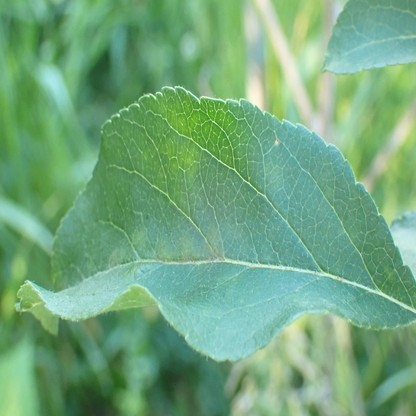scab: (205, 229, 223, 263), (177, 239, 195, 263), (108, 247, 125, 270), (151, 247, 172, 264), (131, 223, 144, 246), (386, 266, 394, 283)
